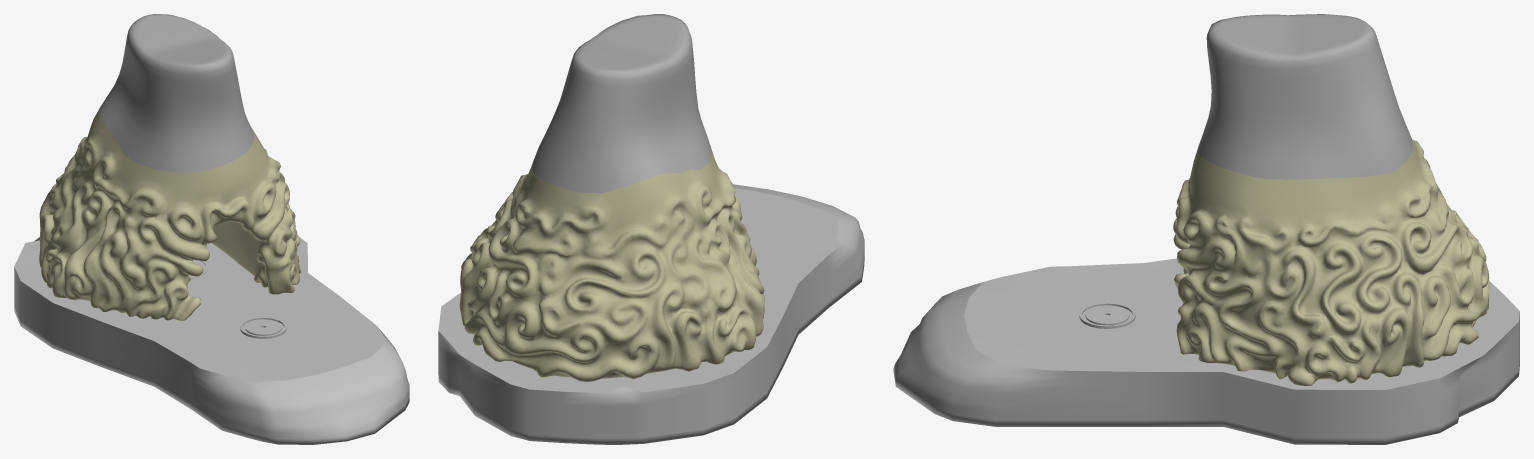
Rendered from Shrine new version.fbx.
3 views of the same model, side by side, from view 1: azimuth 30°, elevation 25°; view 2: azimuth 150°, elevation 25°; view 3: azimuth 270°, elevation 25° (orthographic). The views are drawn at different scales.
Visible parts, largest first — view 1: Plataforma, Bottom_shrine1, Top_shrine1, marca_del_suelo; view 2: Bottom_shrine1, Plataforma, Top_shrine1; view 3: Plataforma, Bottom_shrine1, Top_shrine1, marca_del_suelo.
Part boxes in pixels (bbox=[...]): Plataforma: bbox=[14, 237, 409, 444]; Bottom_shrine1: bbox=[39, 110, 300, 320]; Top_shrine1: bbox=[99, 14, 254, 172]; marca_del_suelo: bbox=[240, 317, 286, 338]; Bottom_shrine1: bbox=[459, 149, 764, 381]; Plataforma: bbox=[438, 184, 864, 444]; Top_shrine1: bbox=[532, 14, 711, 193]; Plataforma: bbox=[893, 258, 1519, 444]; Bottom_shrine1: bbox=[1173, 139, 1489, 385]; Top_shrine1: bbox=[1197, 14, 1412, 179]; marca_del_suelo: bbox=[1079, 302, 1135, 328].
Size of the model in its own units: 535 by 566 by 946.
